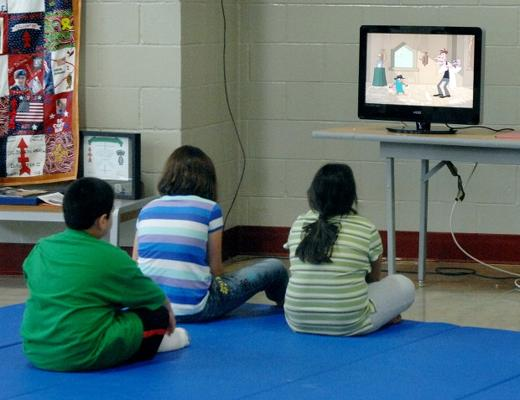person: (285, 164, 413, 338)
